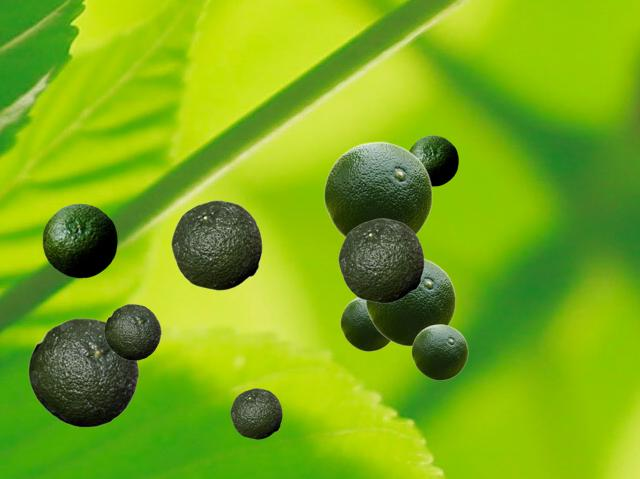calamansi: (28, 318, 138, 426), (323, 141, 432, 237), (171, 200, 261, 289), (365, 258, 455, 345), (338, 218, 423, 302), (42, 203, 116, 277), (411, 324, 467, 379), (104, 304, 160, 359), (340, 297, 390, 350), (230, 388, 281, 438), (409, 135, 457, 185)
